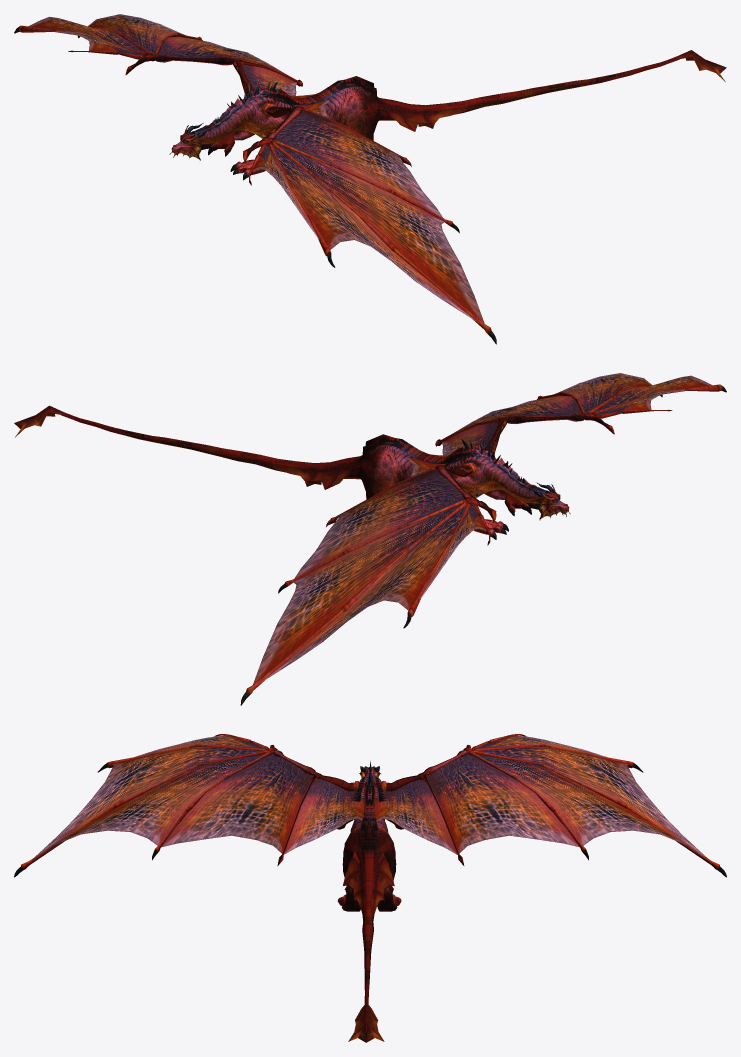
The model's file is SMAUG_GEOM.fbx.
3 renders of one model, top to bottom at view 1: azimuth 30°, elevation 25°; view 2: azimuth 150°, elevation 25°; view 3: azimuth 270°, elevation 25°, orthographic. The views are drawn at different scales.
Visible parts, largest first — view 1: SMAUG_GEOM; view 2: SMAUG_GEOM; view 3: SMAUG_GEOM.
Part boxes in pixels (left/top/right/bottom): SMAUG_GEOM: left=14, top=14, right=726, bottom=344; SMAUG_GEOM: left=14, top=373, right=726, bottom=705; SMAUG_GEOM: left=14, top=734, right=726, bottom=1042.
Bounding box in the file's own units: 650245 × 138307 × 835244.
Materials: 5 (5 with a texture image).
